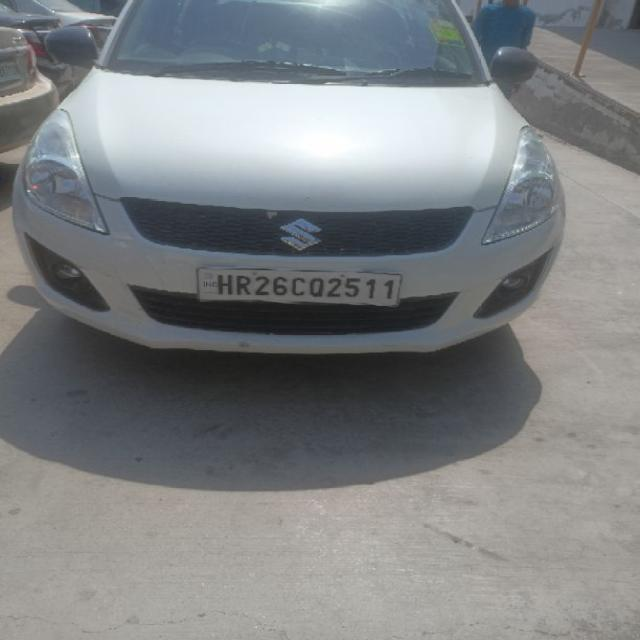license_plate: (195, 266, 402, 307)
